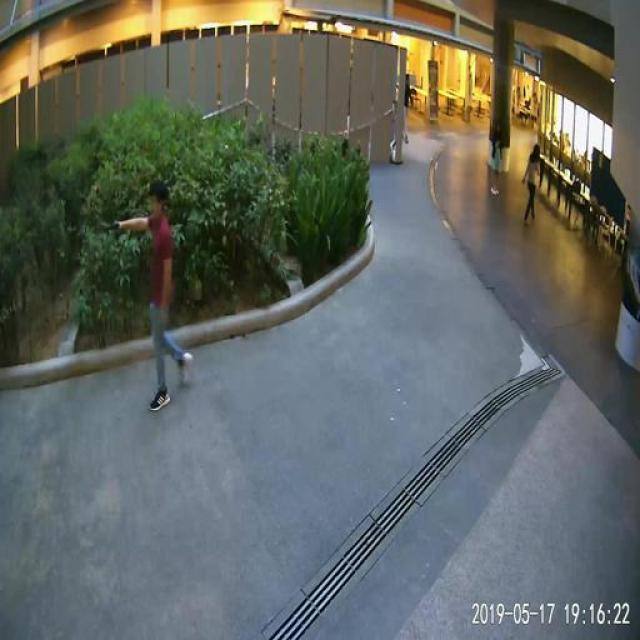Gun: (93, 212, 126, 248)
